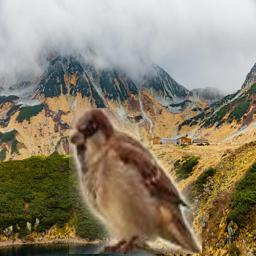Sparrow: (69, 108, 202, 254)
